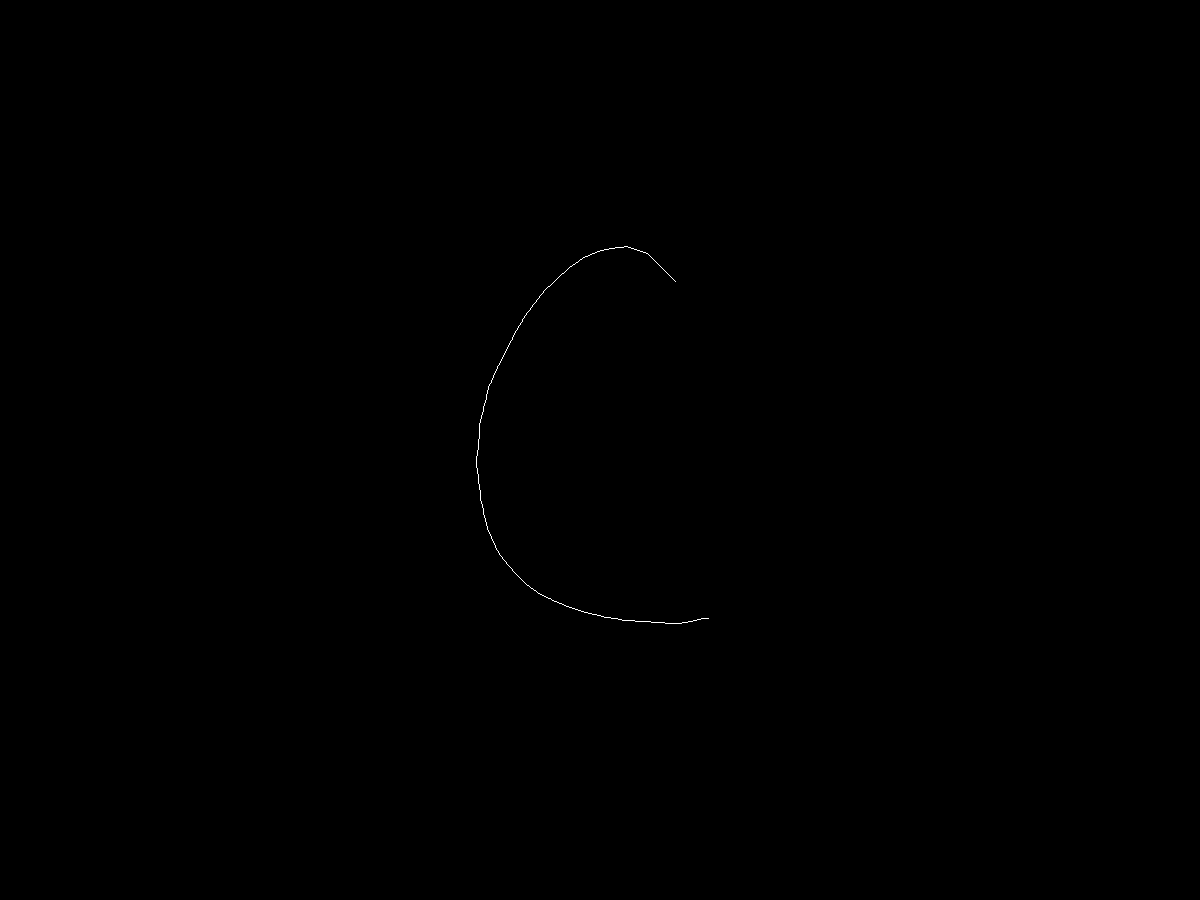dian1: (670, 277, 683, 295)
dian2: (696, 609, 724, 634)
